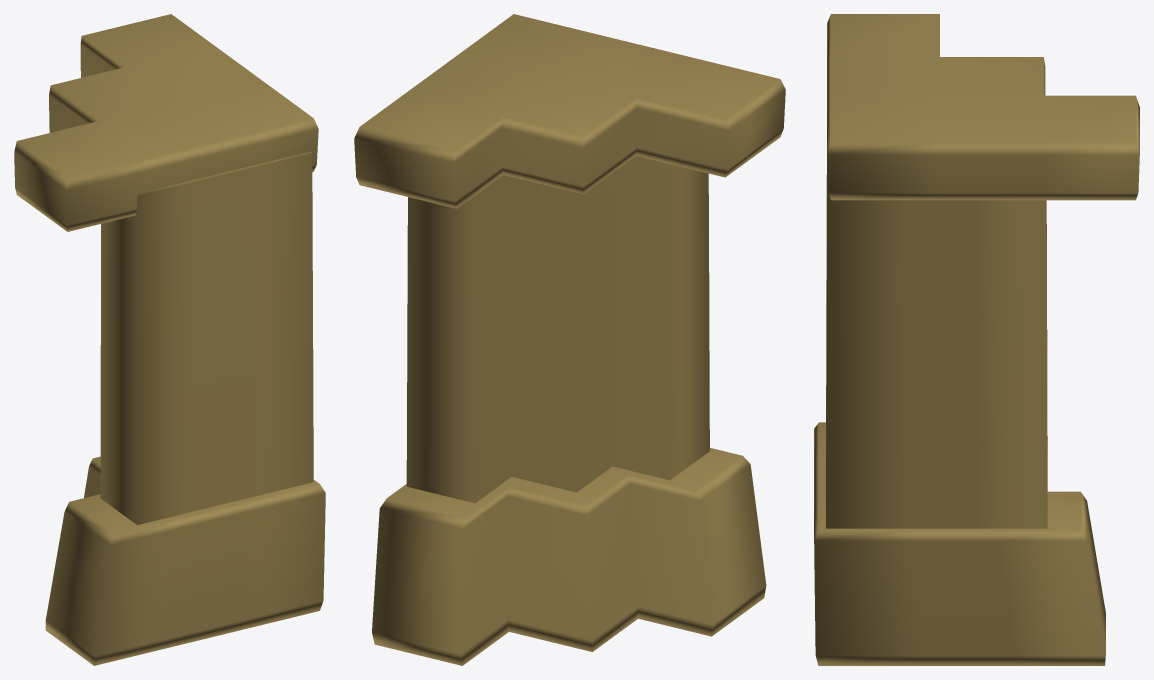
Rendered from Pillar_07A.fbx.
The picture shows the model from 3 angles, left to right: view 1: azimuth 30°, elevation 25°; view 2: azimuth 150°, elevation 25°; view 3: azimuth 270°, elevation 25°; orthographic projection. The views are drawn at different scales.
Visible parts, largest first — view 1: Pillar_07A; view 2: Pillar_07A; view 3: Pillar_07A.
Boxes of the visible parts, box(x1,y1,x2,y2) form: Pillar_07A: box(14, 14, 325, 665); Pillar_07A: box(354, 14, 785, 665); Pillar_07A: box(814, 14, 1139, 665).
Size of the model in its own units: 93.47 by 172 by 97.12.
